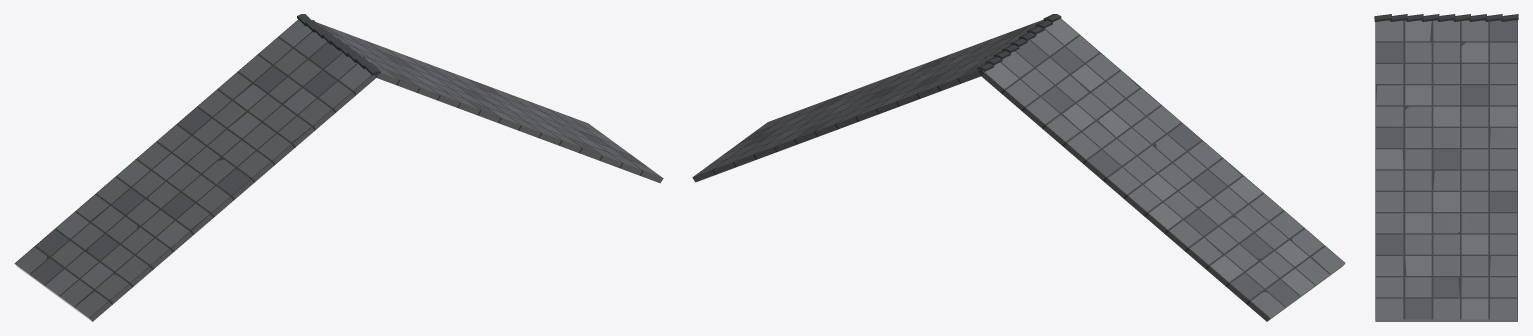
File: Roof4_C8_01.fbx
3 renders of one model, left to right at view 1: azimuth 30°, elevation 25°; view 2: azimuth 150°, elevation 25°; view 3: azimuth 270°, elevation 25°, orthographic. The views are drawn at different scales.
Visible parts, largest first — view 1: Roof4_C8_01; view 2: Roof4_C8_01; view 3: Roof4_C8_01.
Part boxes in pixels (left/top/right/bottom): Roof4_C8_01: left=14, top=14, right=663, bottom=321; Roof4_C8_01: left=692, top=14, right=1345, bottom=321; Roof4_C8_01: left=1374, top=14, right=1518, bottom=321.
Size of the model in its own units: 1105 by 338 by 252.
